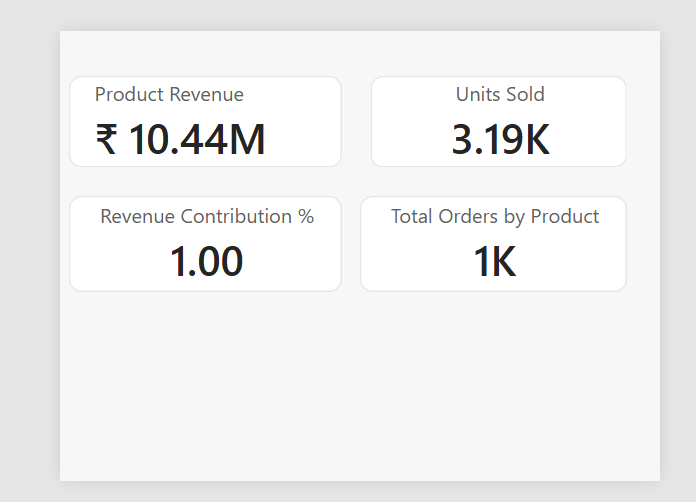

The dashboard page shown, as its layout file describes it:
{"tool":"powerbi","page":{"name":"Product tool tip","canvas":[400,300],"ordinal":1},"visuals":[{"type":"cardVisual","fields":{"Data":["Categories_Clean.Total Revenue"]},"box":[6,30,182,61],"z":0},{"type":"cardVisual","fields":{"Data":["dim_Customers.Total_Units_Sold"]},"box":[207,30,171,61],"z":1000},{"type":"cardVisual","fields":{"Data":["Categories_Clean.Revenue_Contribution_%"]},"box":[6,110,182,64],"z":2000},{"type":"cardVisual","fields":{"Data":["Categories_Clean.Test_Product_Orders"]},"box":[200,110,178,64],"z":3000}]}

Visuals, with their boxes on the page's 400x300 design canvas (x1, y1, x2, y2). These are canvas units, not pixel positions in the 696x502 screenshot, which may show the page scaled, cropped or inside an application window:
cardVisual - Categories_Clean.Total Revenue: bbox(6, 30, 188, 91)
cardVisual - dim_Customers.Total_Units_Sold: bbox(207, 30, 378, 91)
cardVisual - Categories_Clean.Revenue_Contribution_%: bbox(6, 110, 188, 174)
cardVisual - Categories_Clean.Test_Product_Orders: bbox(200, 110, 378, 174)
